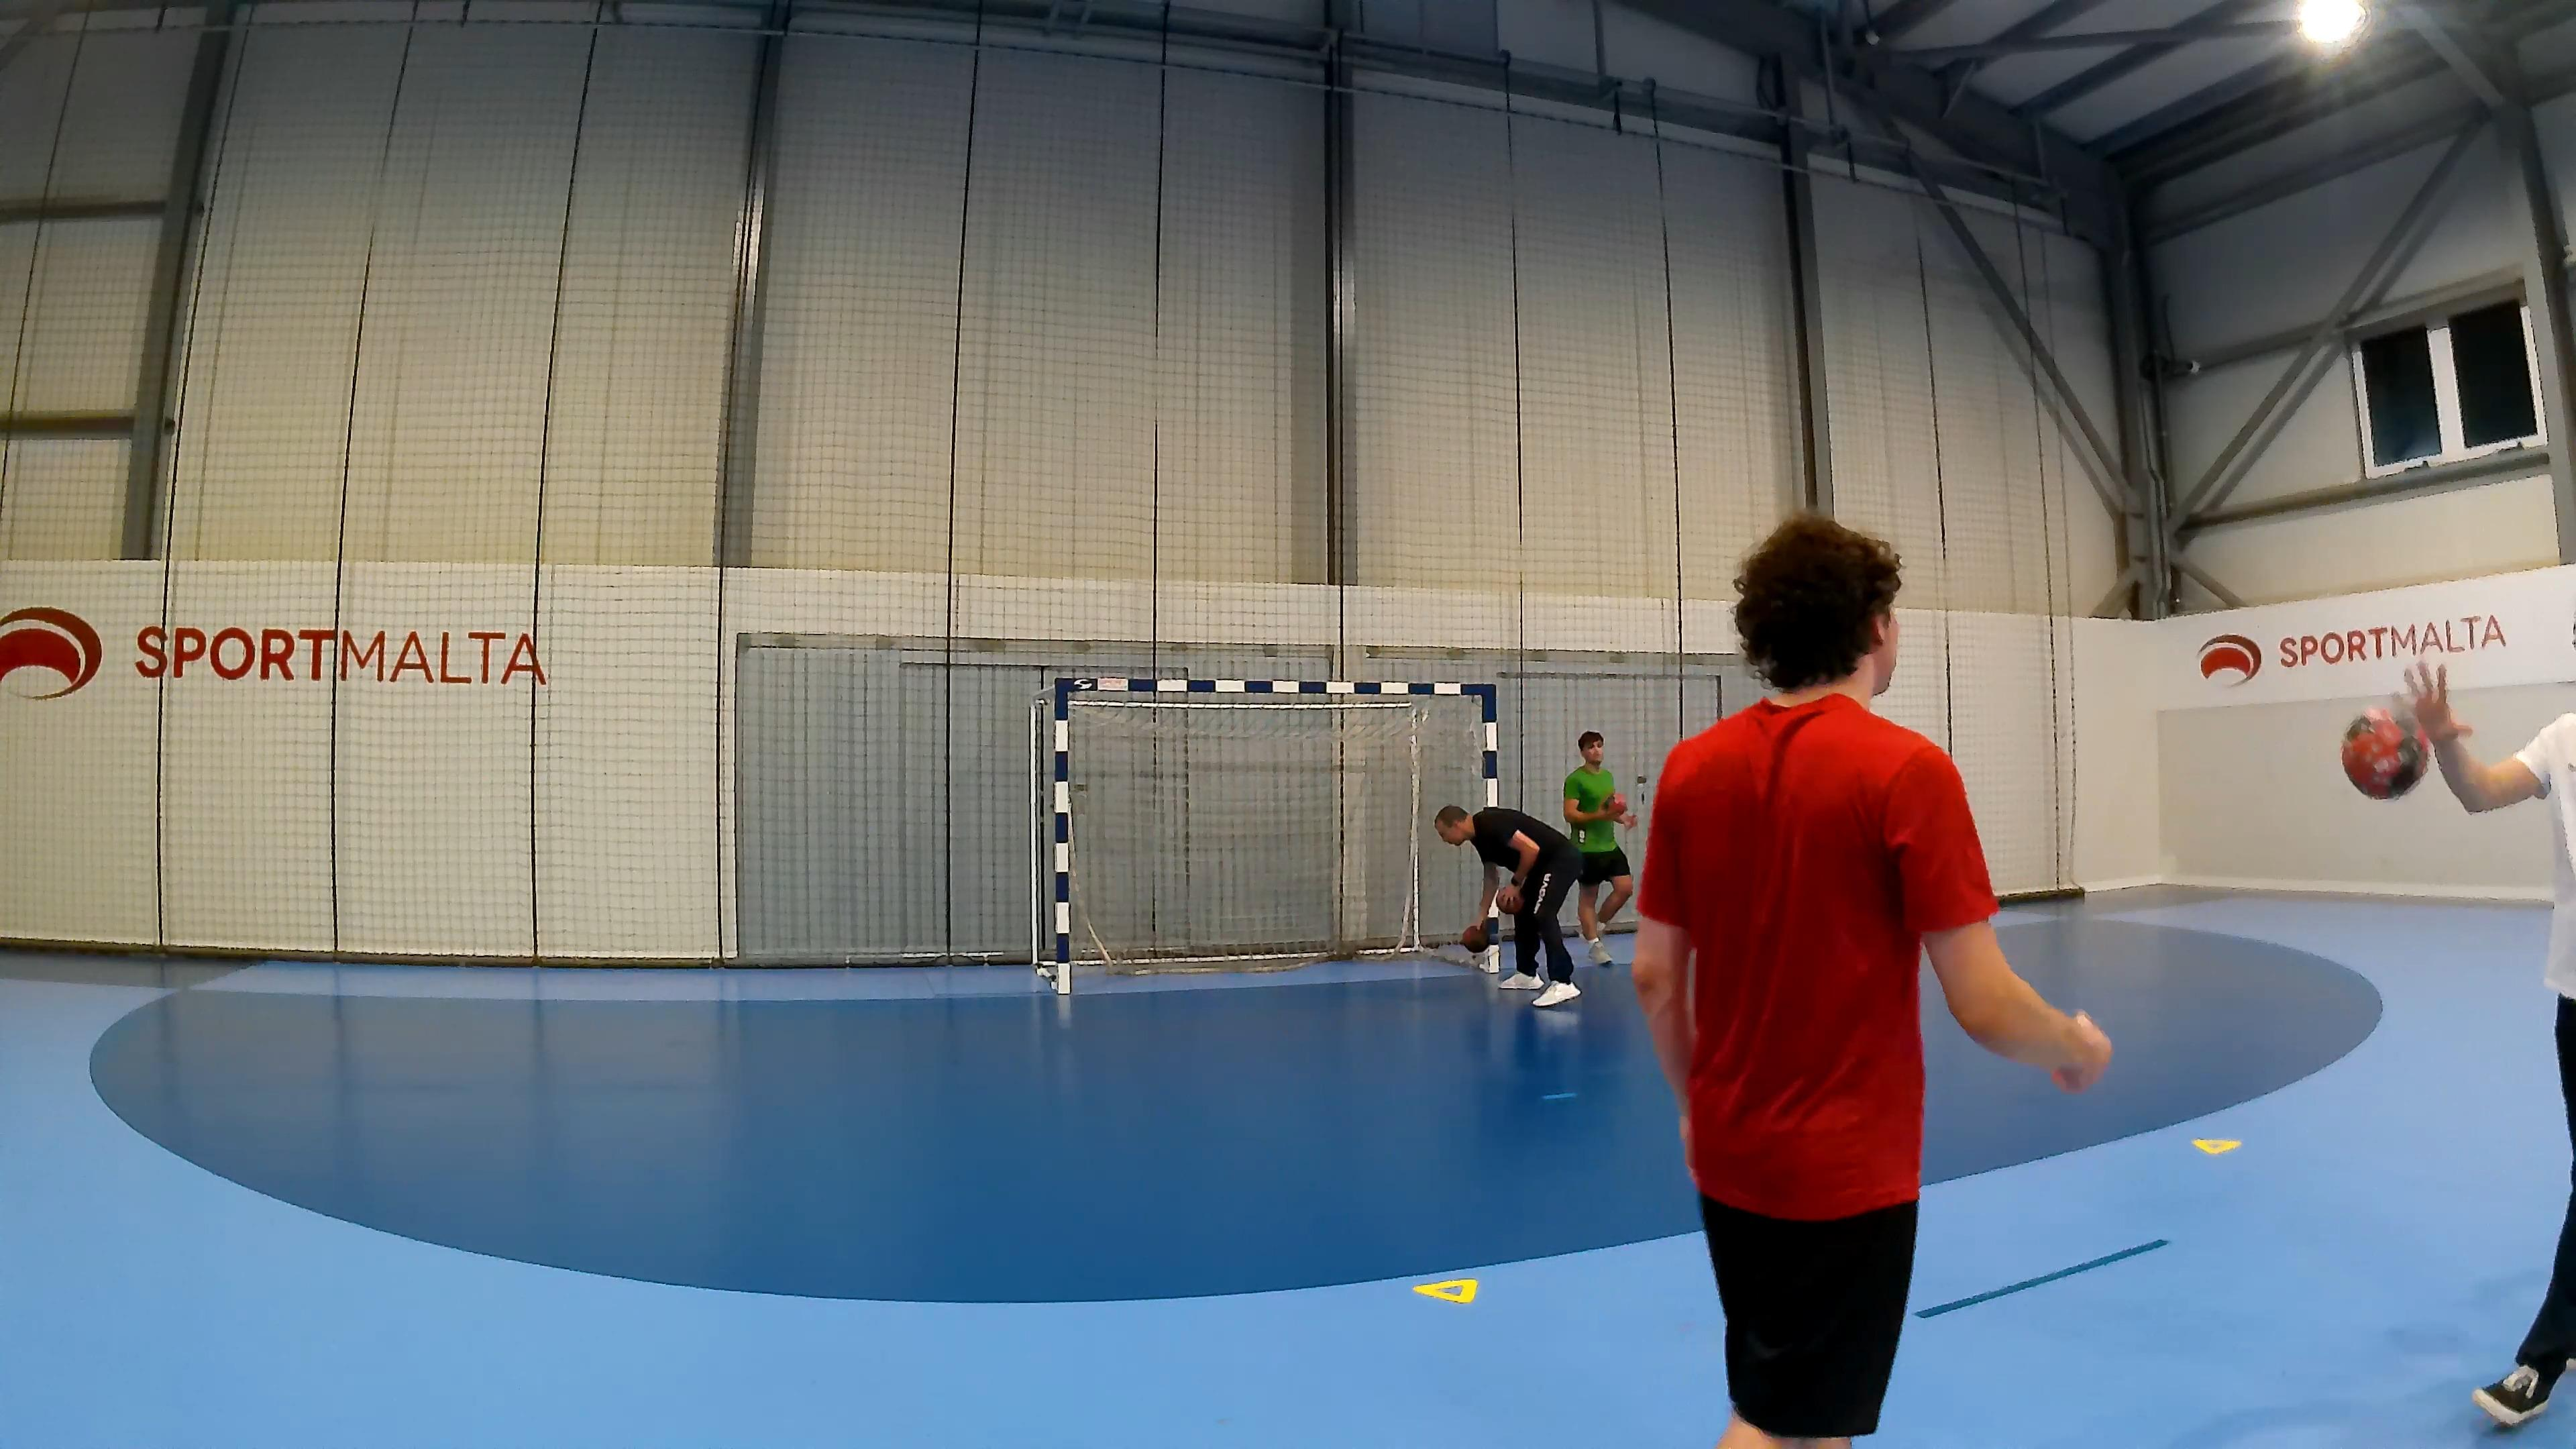handball: (2339, 702, 2429, 800), (1458, 918, 1486, 955)
